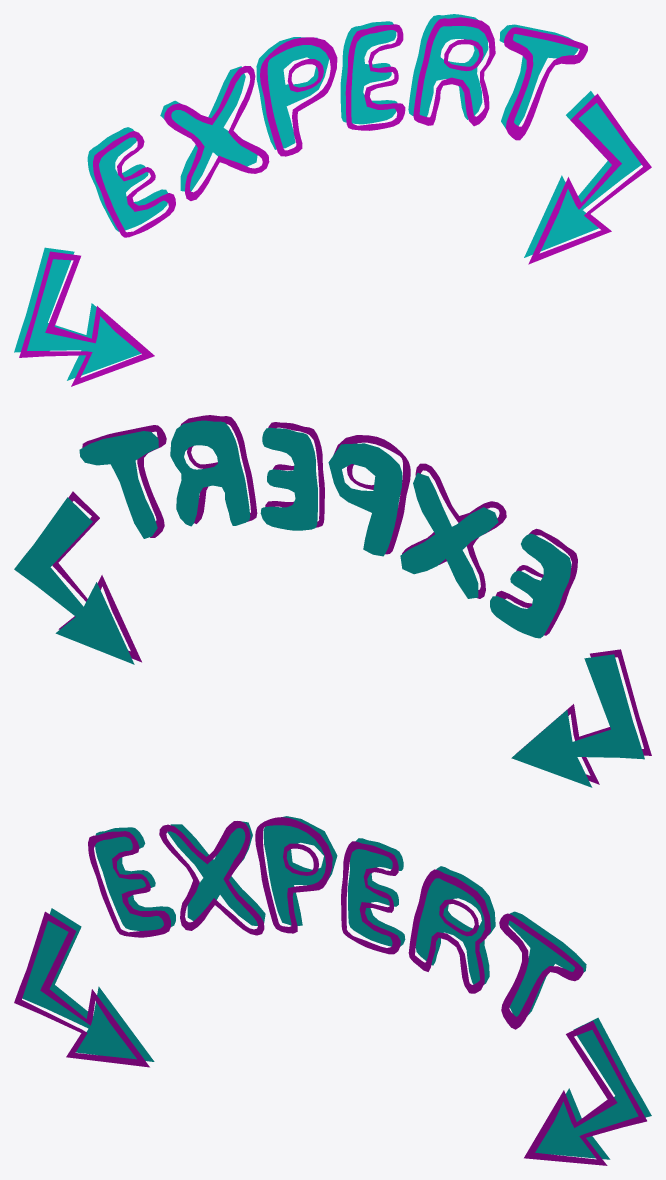
The model's file is mesh_text_expert.fbx.
3 renders of one model, top to bottom at view 1: azimuth 30°, elevation 25°; view 2: azimuth 150°, elevation 25°; view 3: azimuth 330°, elevation 25°, orthographic.
Parts seen in each view (by area): view 1: mesh_text_expert, mesh_text_expert1, mesh_text_expert2, mesh_text_expert4, mesh_text_expert3, mesh_text_expert5; view 2: mesh_text_expert, mesh_text_expert1, mesh_text_expert2, mesh_text_expert4, mesh_text_expert5, mesh_text_expert3; view 3: mesh_text_expert, mesh_text_expert1, mesh_text_expert2, mesh_text_expert4, mesh_text_expert3, mesh_text_expert5.
Part boxes in pixels (x1,y1,x2,y2): mesh_text_expert: [87, 14, 578, 231]; mesh_text_expert1: [93, 17, 587, 237]; mesh_text_expert2: [14, 247, 140, 380]; mesh_text_expert4: [524, 91, 641, 257]; mesh_text_expert3: [19, 251, 154, 386]; mesh_text_expert5: [528, 93, 651, 264]; mesh_text_expert: [79, 420, 571, 638]; mesh_text_expert1: [82, 415, 577, 635]; mesh_text_expert2: [511, 654, 644, 787]; mesh_text_expert4: [14, 497, 134, 664]; mesh_text_expert5: [52, 491, 141, 662]; mesh_text_expert3: [516, 649, 651, 784]; mesh_text_expert: [95, 816, 586, 1016]; mesh_text_expert1: [88, 817, 583, 1029]; mesh_text_expert2: [22, 908, 154, 1061]; mesh_text_expert4: [535, 1017, 651, 1159]; mesh_text_expert3: [14, 911, 149, 1067]; mesh_text_expert5: [524, 1021, 646, 1165].
Bounding box in the file's own units: 0.1294 × 0.0573 × 0.00212.
